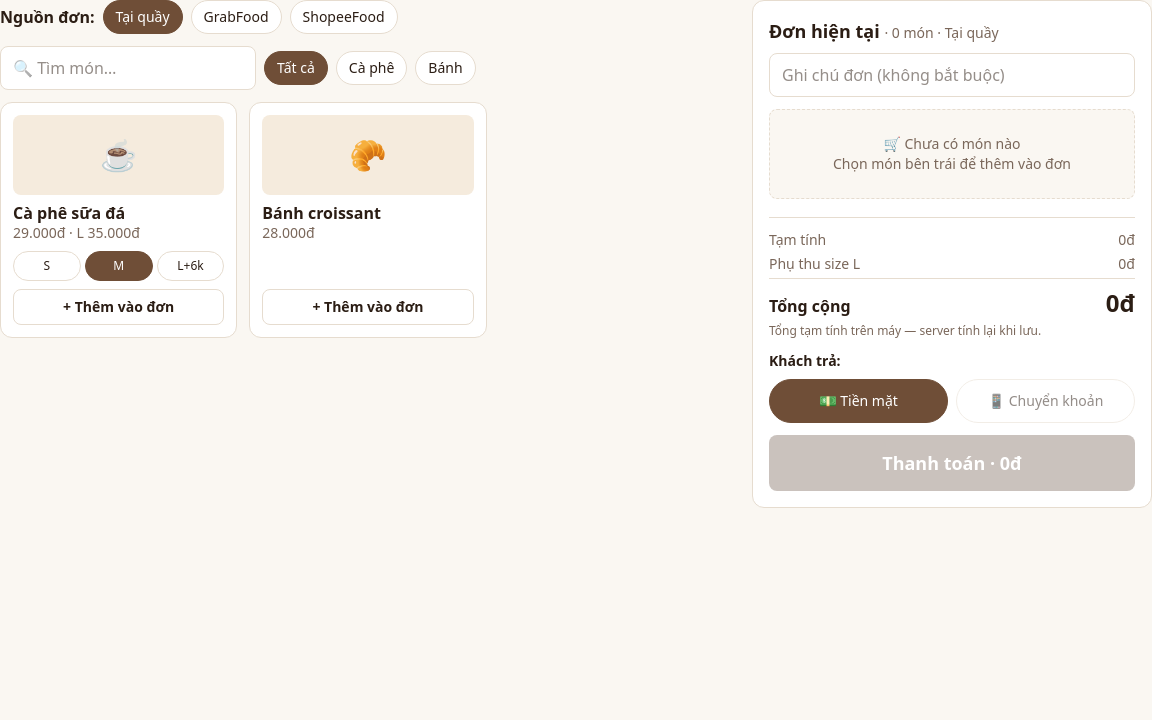
Màn bán hàng (UC02) › hết phiên (401) → mời đăng nhập lại, giỏ được lưu để khôi phục
The width and height of the screenshot is (1152, 720).
expect the heading "Cà phê sữa đá" is shown: met, box top-left (13, 202), bottom-right (125, 224)
Step 1. Click the button "L+6k" → point(190, 266), box top-left (157, 251), bottom-right (224, 281)
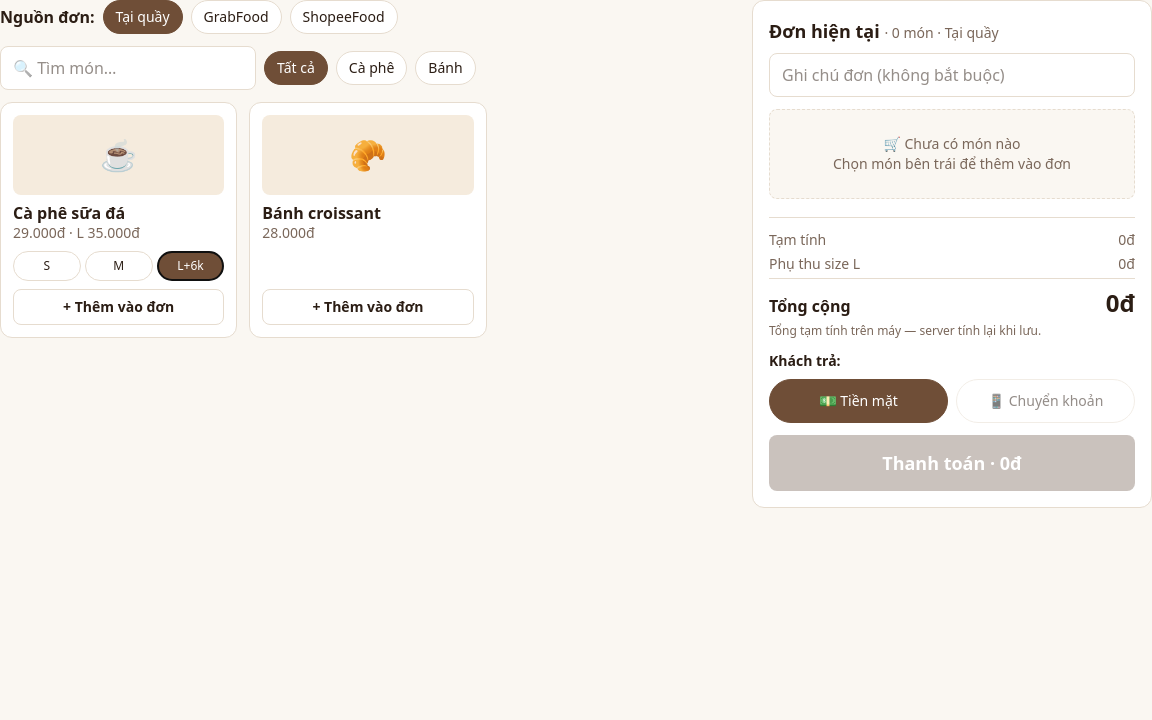
Step 2. Click the button "+ Thêm vào đơn" below "29.000đ" → point(119, 307), box top-left (13, 289), bottom-right (224, 325)
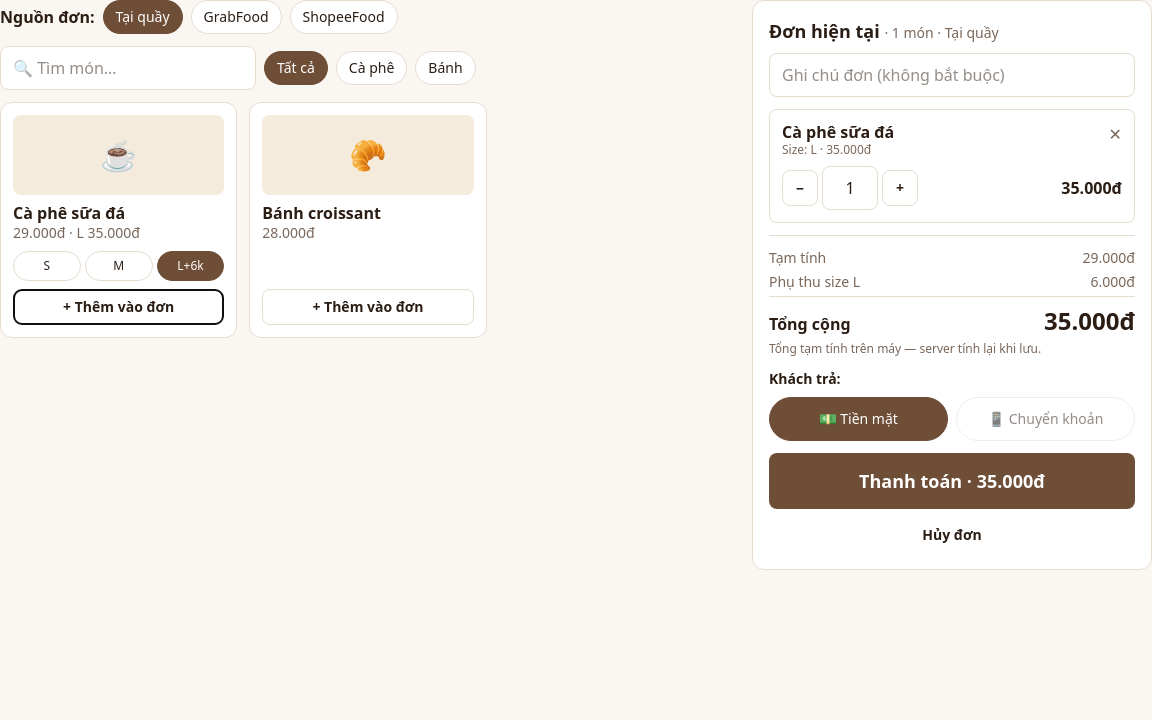
Step 3. Click the button "Thanh toán · 35.000đ" → point(952, 481), box top-left (769, 453), bottom-right (1135, 509)
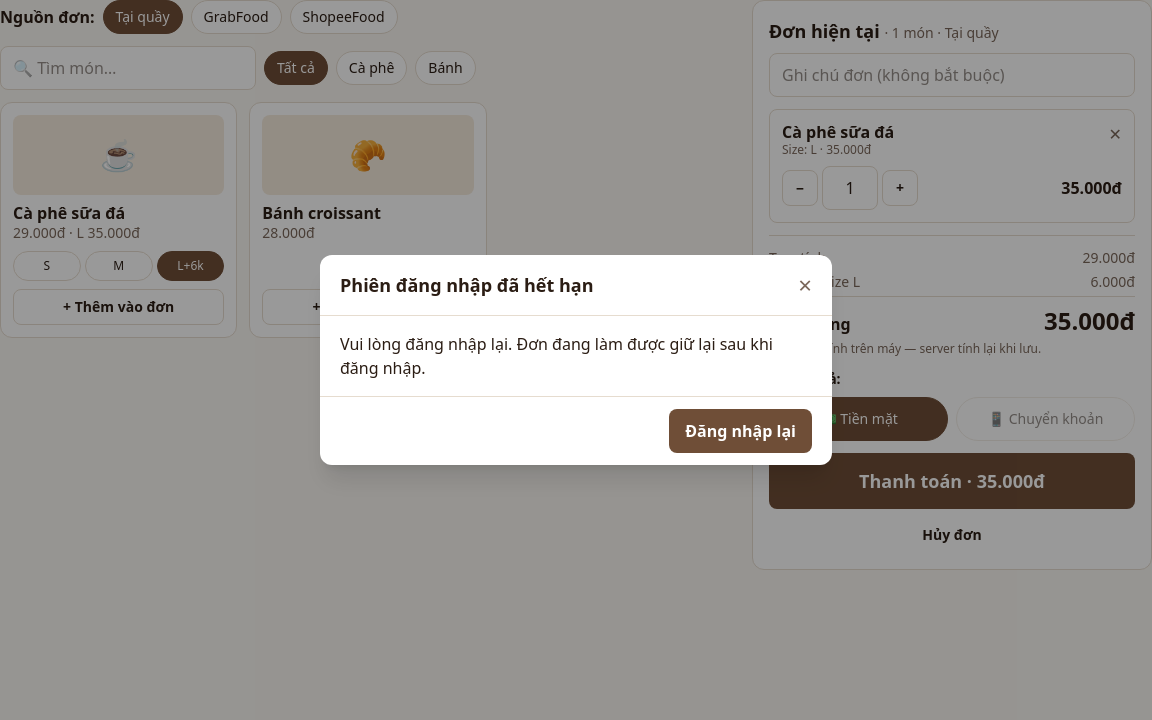
expect the dialog "Phiên đăng nhập đã hết hạn" is shown: met, box top-left (320, 255), bottom-right (832, 465)
